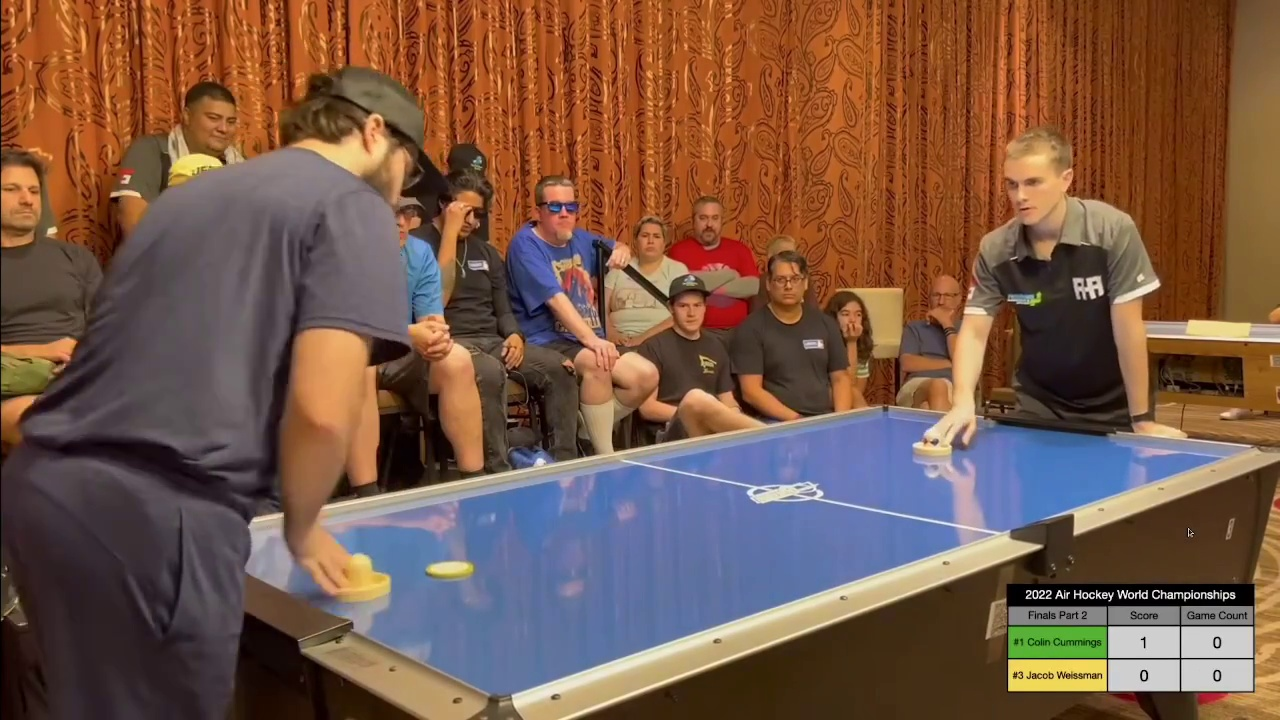player: (321, 554, 395, 602), (913, 426, 954, 455)
puck: (425, 559, 476, 578)
table: (158, 409, 1280, 702)
